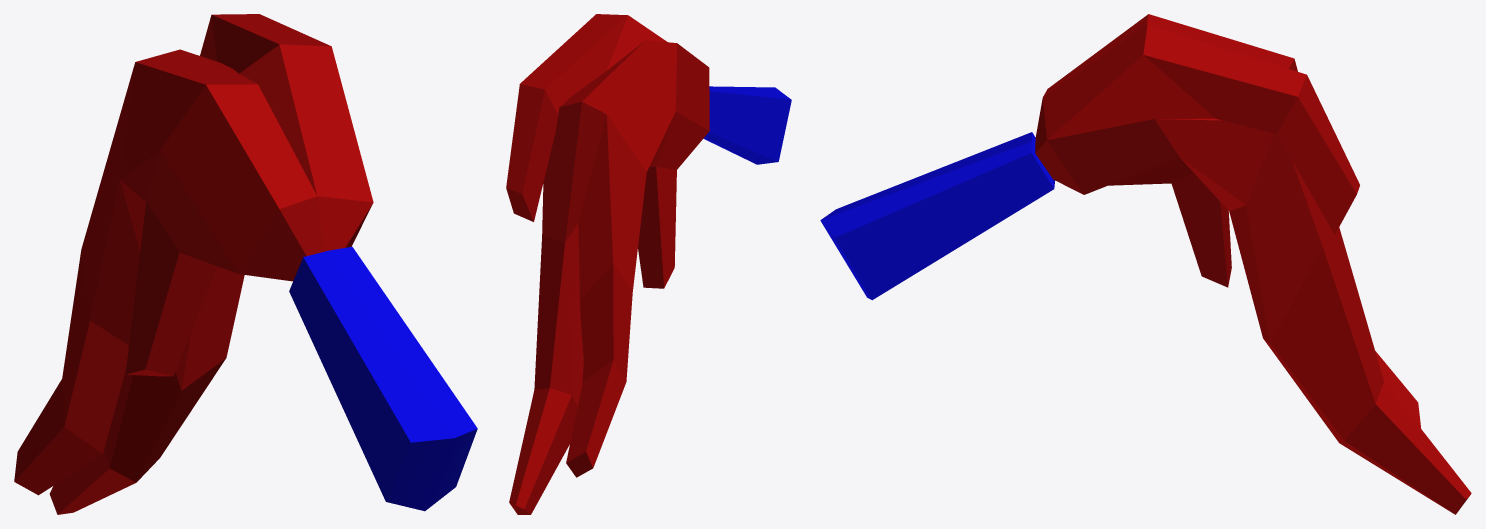
Rendered from Chr_HelmetAttachment_Static_02.fbx.
The picture shows the model from 3 angles, left to right: view 1: azimuth 30°, elevation 25°; view 2: azimuth 150°, elevation 25°; view 3: azimuth 270°, elevation 25°; orthographic projection. The views are drawn at different scales.
Parts seen in each view (by area): view 1: Chr_HelmetAttachment_02; view 2: Chr_HelmetAttachment_02; view 3: Chr_HelmetAttachment_02.
Part boxes in pixels (left/top/right/bottom): Chr_HelmetAttachment_02: left=14, top=14, right=477, bottom=514; Chr_HelmetAttachment_02: left=506, top=14, right=791, bottom=514; Chr_HelmetAttachment_02: left=820, top=14, right=1471, bottom=514.
Size of the model in its own units: 12.24 by 39.35 by 46.54.
